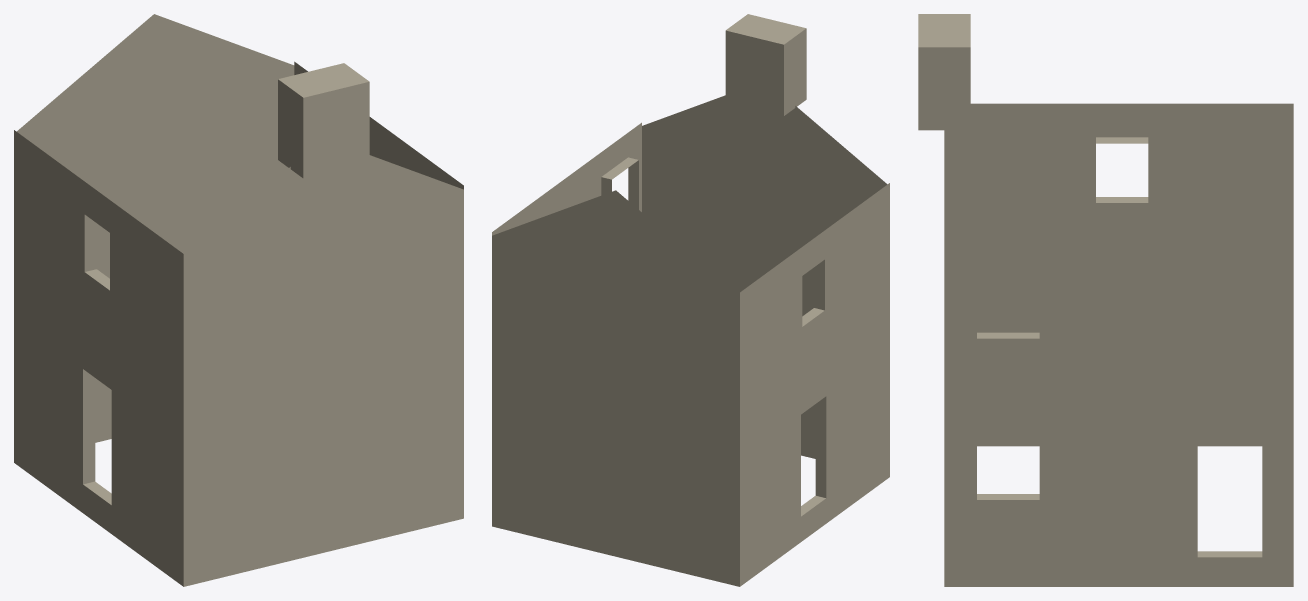
Rendered from SM_Bld_075_Render.glb.
The picture shows the model from 3 angles, left to right: view 1: azimuth 30°, elevation 25°; view 2: azimuth 150°, elevation 25°; view 3: azimuth 270°, elevation 25°; orthographic projection. The views are drawn at different scales.
Visible parts, largest first — view 1: SM_Bld_075_Render; view 2: SM_Bld_075_Render; view 3: SM_Bld_075_Render.
Boxes of the visible parts, box(x1,y1,x2,y2) form: SM_Bld_075_Render: box(14, 14, 463, 586); SM_Bld_075_Render: box(492, 14, 889, 586); SM_Bld_075_Render: box(918, 14, 1293, 586).
Bounding box in the file's own units: 5.08 × 8.18 × 5.73.
